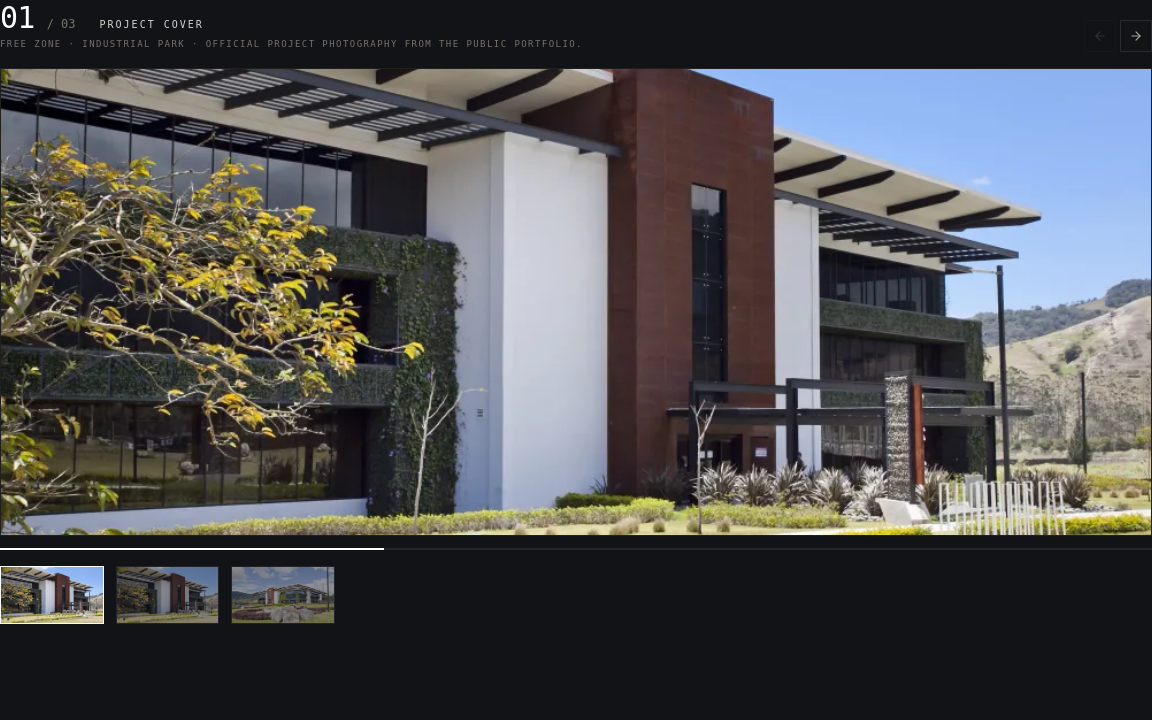
ARCH_TECH SpatialRail showcase media › opens fullscreen media, keeps navigation local, and restores focus
Click the button named "Open fullscreen view of Project cover": [576, 302] box [1,68,1151,534]
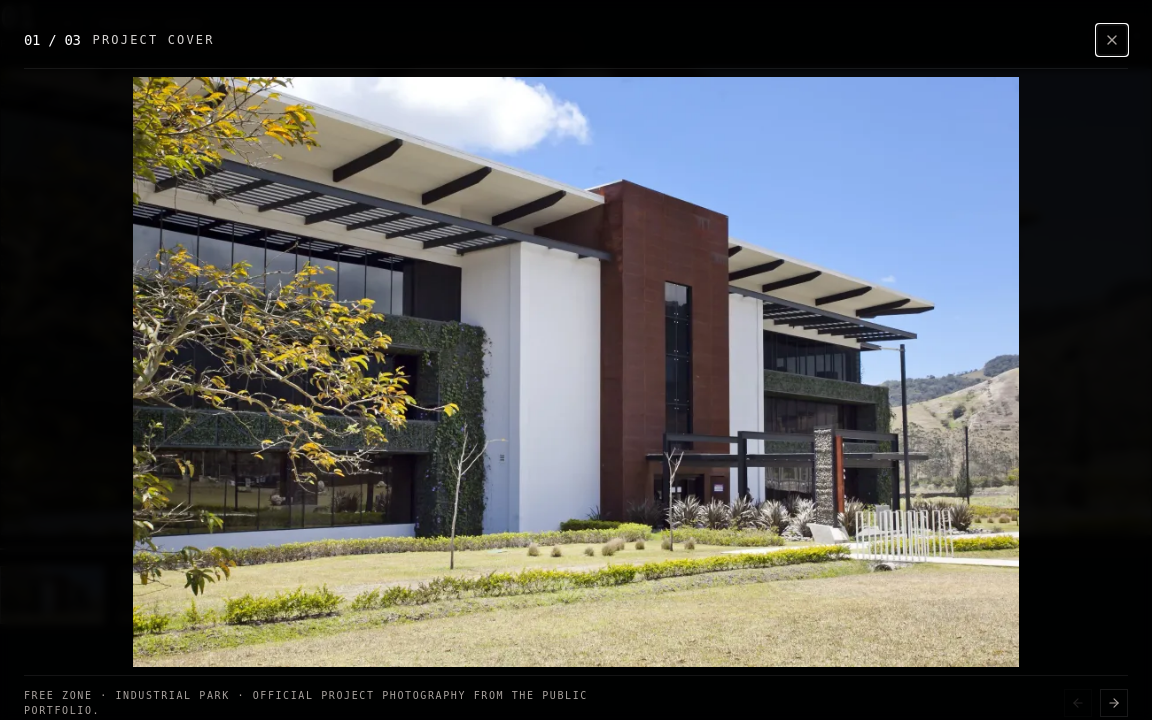
Now the dialog with test id "rail-fullscreen" is shown
Click the button with test id "rail-fullscreen-next": [1114, 703] box [1100,689,1128,717]
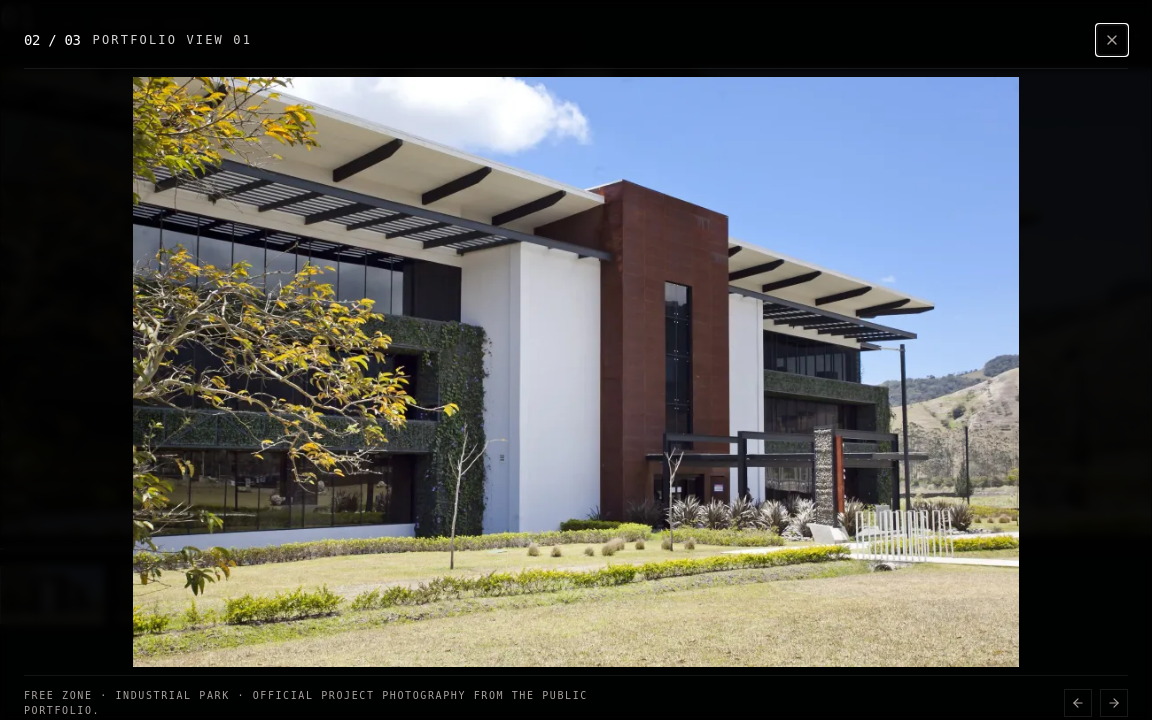
Now the text "02 / 03" is shown, box [24,30,81,50]
Press Escape in the button with test id "rail-fullscreen-close", box [1096,24,1128,56]
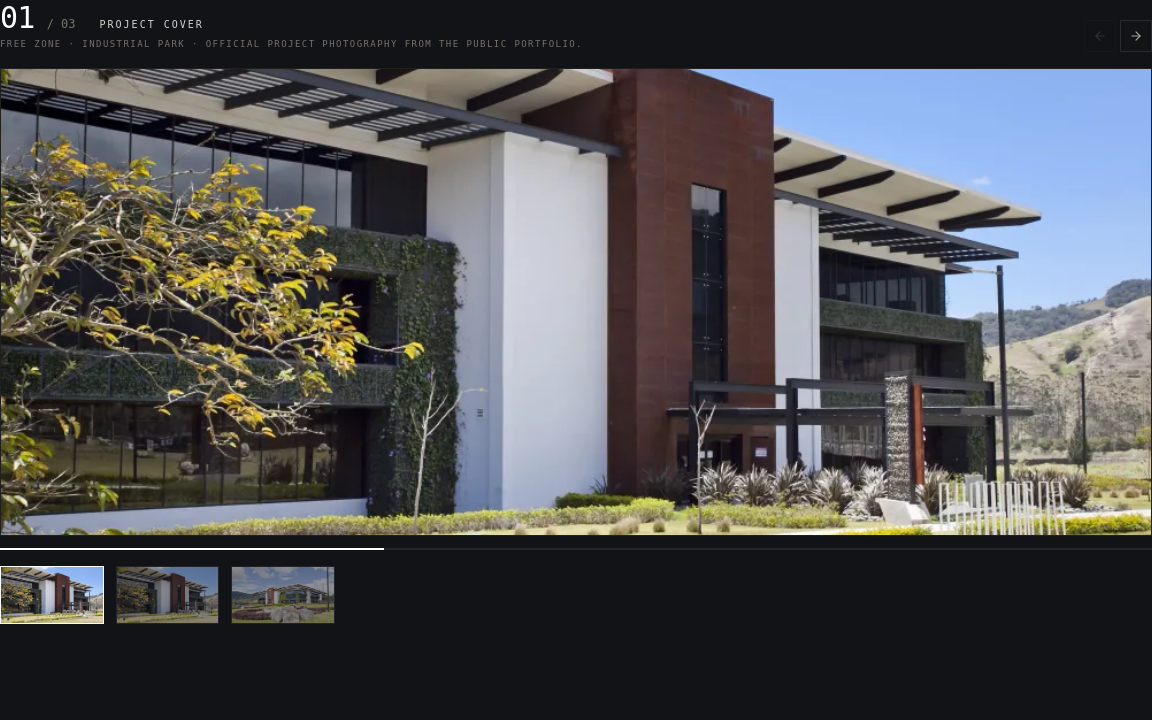
Expected: the text with test id "rail-index" reads "01", [0,0,35,35]
Now the dialog with test id "rail-fullscreen" is gone
